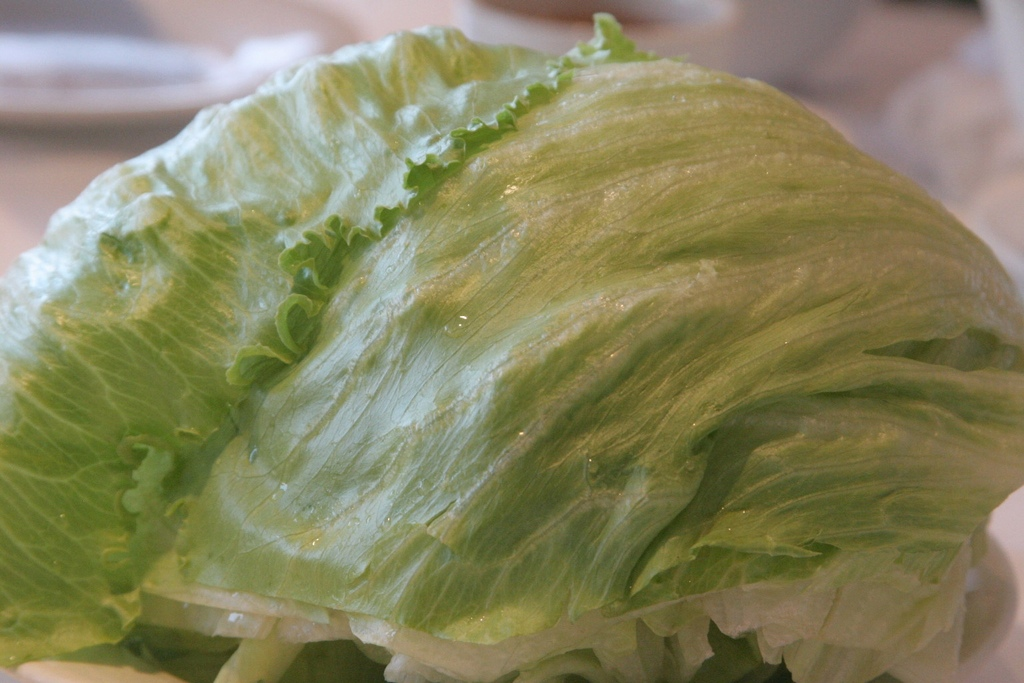Cabbage: (2, 10, 1022, 682)
